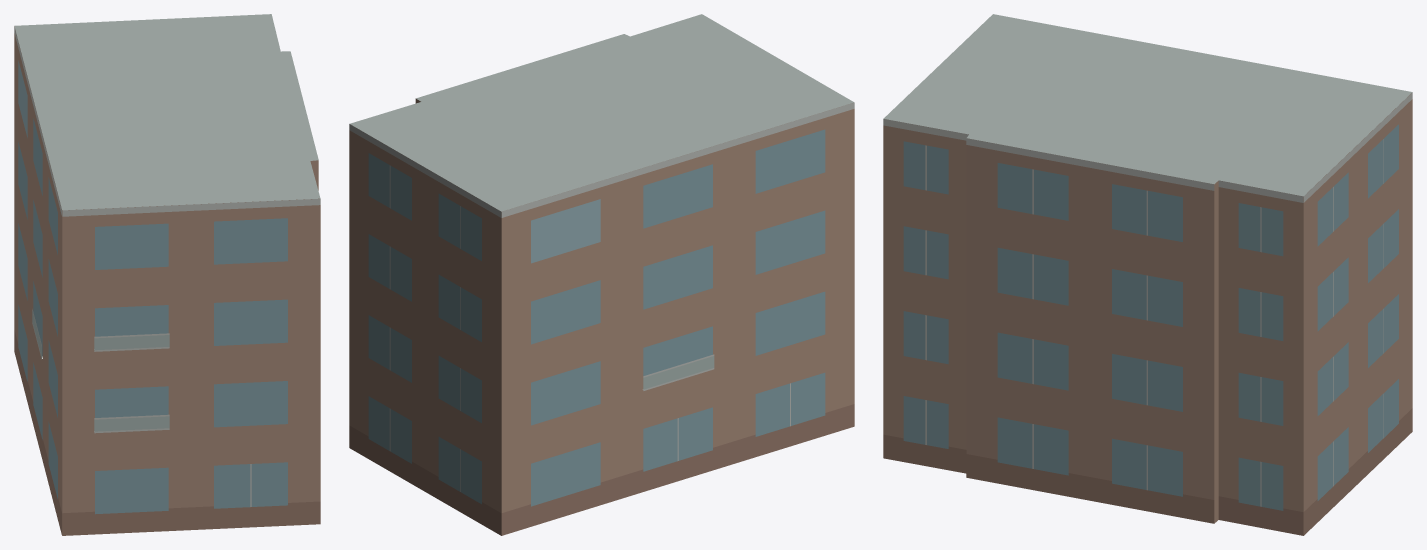
The model's file is survey-upis-33004587.glb.
The picture shows the model from 3 angles, left to right: view 1: azimuth 30°, elevation 25°; view 2: azimuth 150°, elevation 25°; view 3: azimuth 270°, elevation 25°; orthographic projection. The views are drawn at different scales.
Visible parts, largest first — view 1: survey-upis-33004587.tmp; view 2: survey-upis-33004587.tmp; view 3: survey-upis-33004587.tmp.
Part boxes in pixels (box(x1,y1,x2,y2)): survey-upis-33004587.tmp: box(14, 14, 320, 535); survey-upis-33004587.tmp: box(349, 14, 854, 535); survey-upis-33004587.tmp: box(883, 14, 1412, 535).
Bounding box in the file's own units: 14.29 × 12.4 × 17.53.
